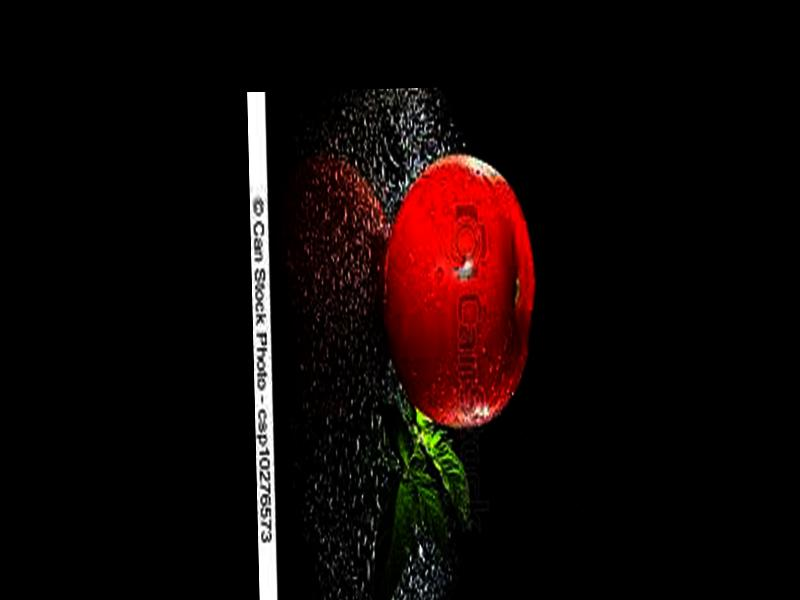Tomato: (381, 153, 538, 429)
